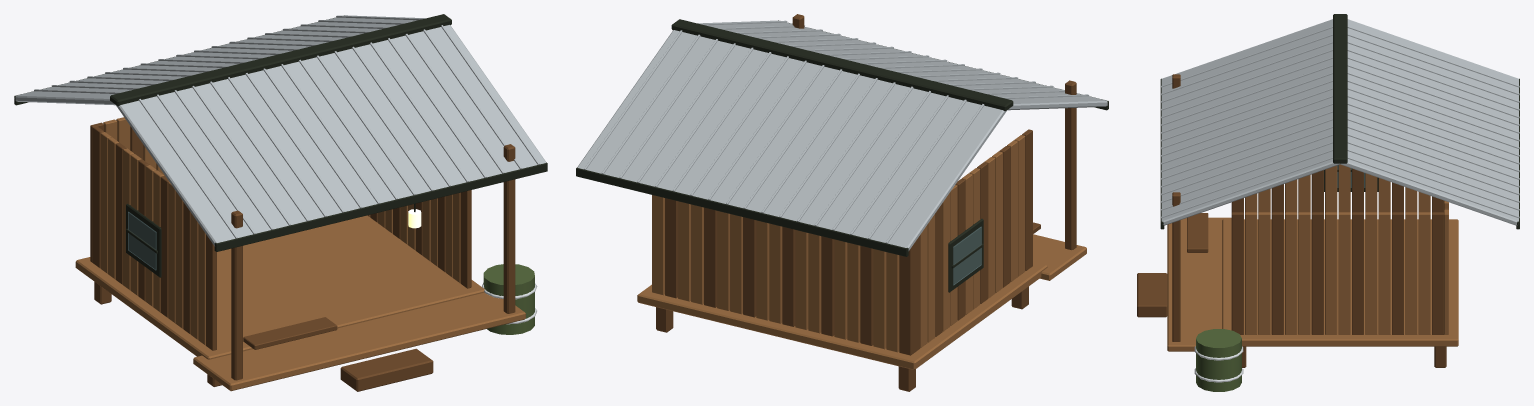
Rendered from harvest_hut.glb.
The picture shows the model from 3 angles, left to right: view 1: azimuth 30°, elevation 25°; view 2: azimuth 150°, elevation 25°; view 3: azimuth 270°, elevation 25°; orthographic projection. The views are drawn at different scales.
Parts seen in each view (by area): view 1: HarvestHut; view 2: HarvestHut; view 3: HarvestHut.
Part boxes in pixels (<box>): HarvestHut: <box>14,14,547,391</box>; HarvestHut: <box>576,14,1108,391</box>; HarvestHut: <box>1137,14,1519,391</box>.
Bounding box in the file's own units: 5.94 × 4.13 × 6.31.
